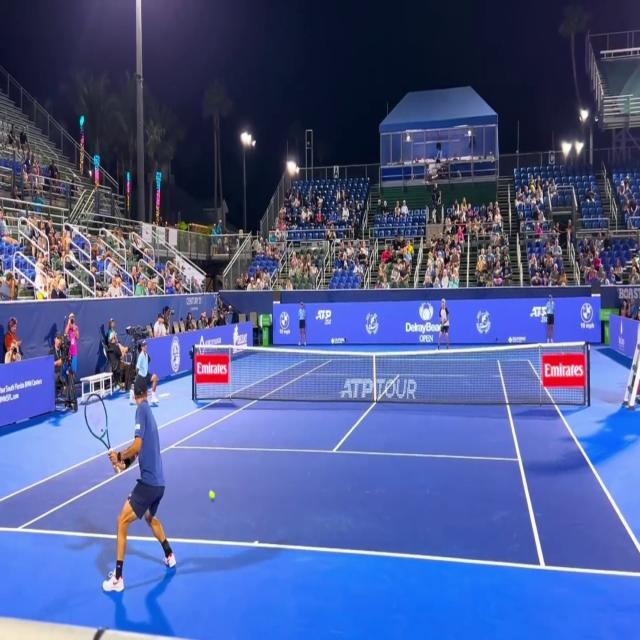tennisBall: (206, 482, 218, 508)
